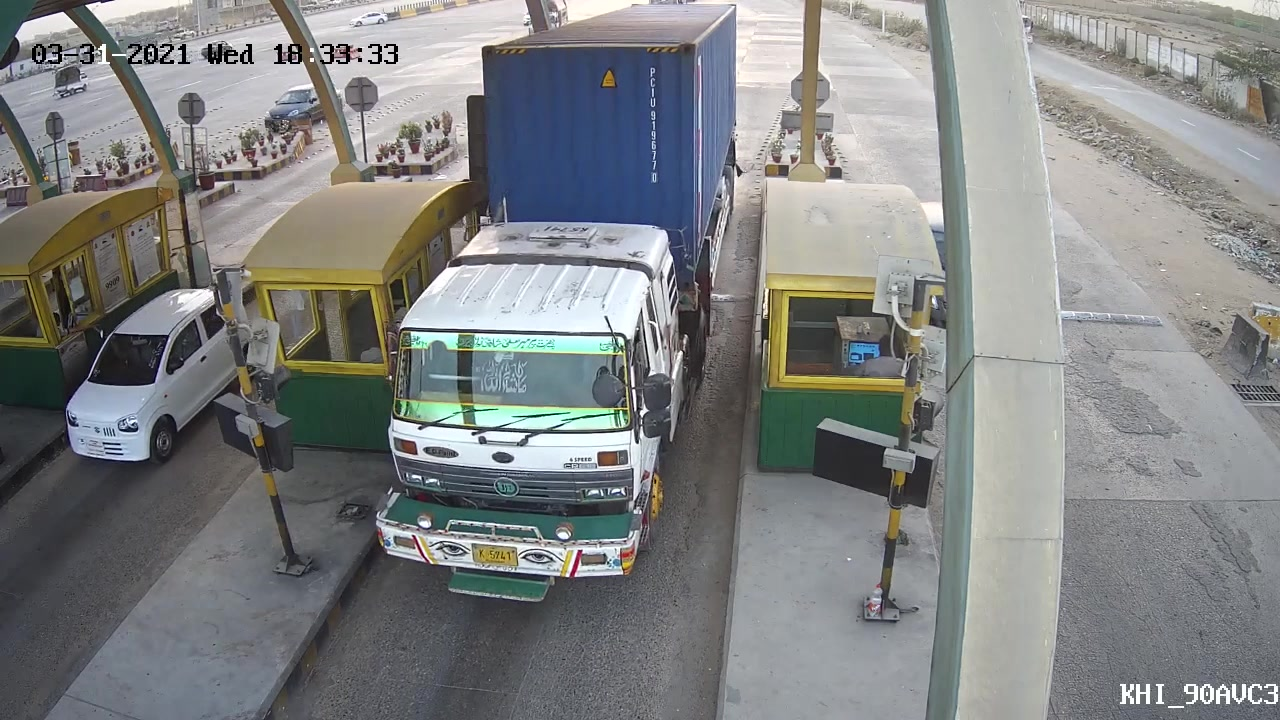F6: (368, 82, 729, 615)
